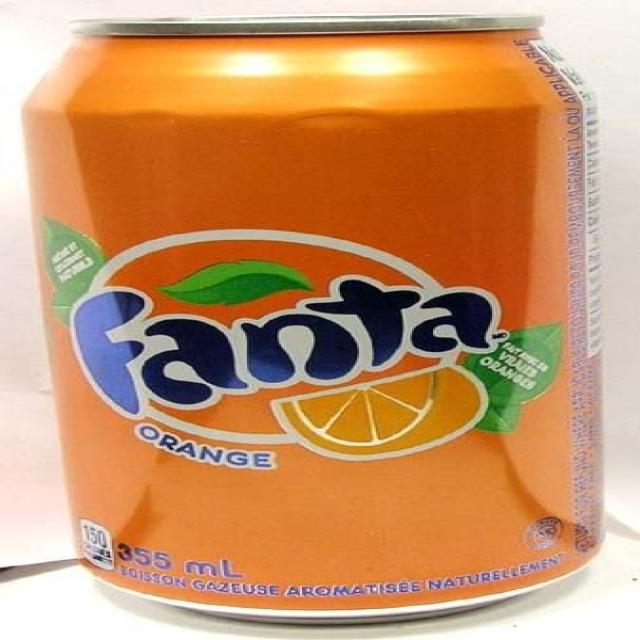fanta: (15, 14, 620, 628)
